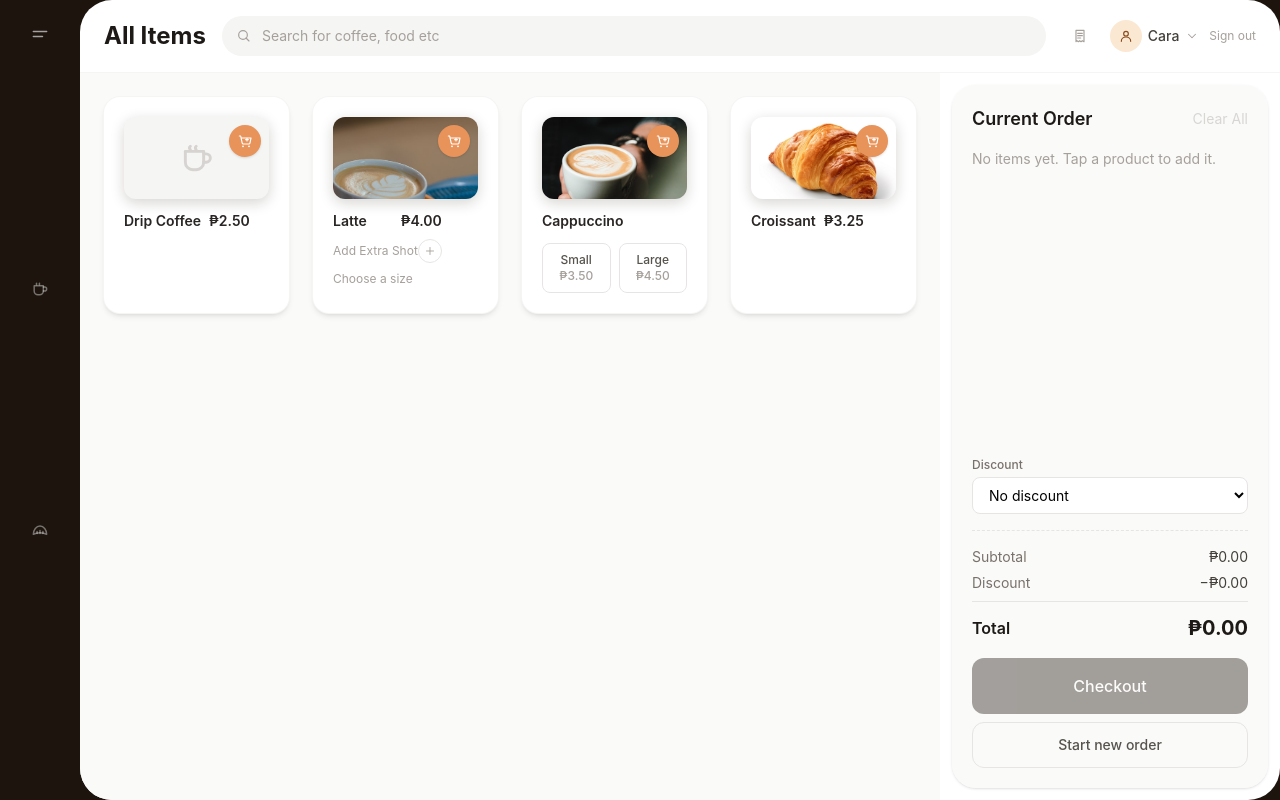
Test case: POS cart — adding items › quick-adds a size-only product by tapping its size chip, with no dialog
The image size is (1280, 800).
Expected: the text "Cappuccino" is shown, [542,212,624,229]
Click the button with aria-label "Cappuccino Large": click(653, 268) [618,243,687,293]
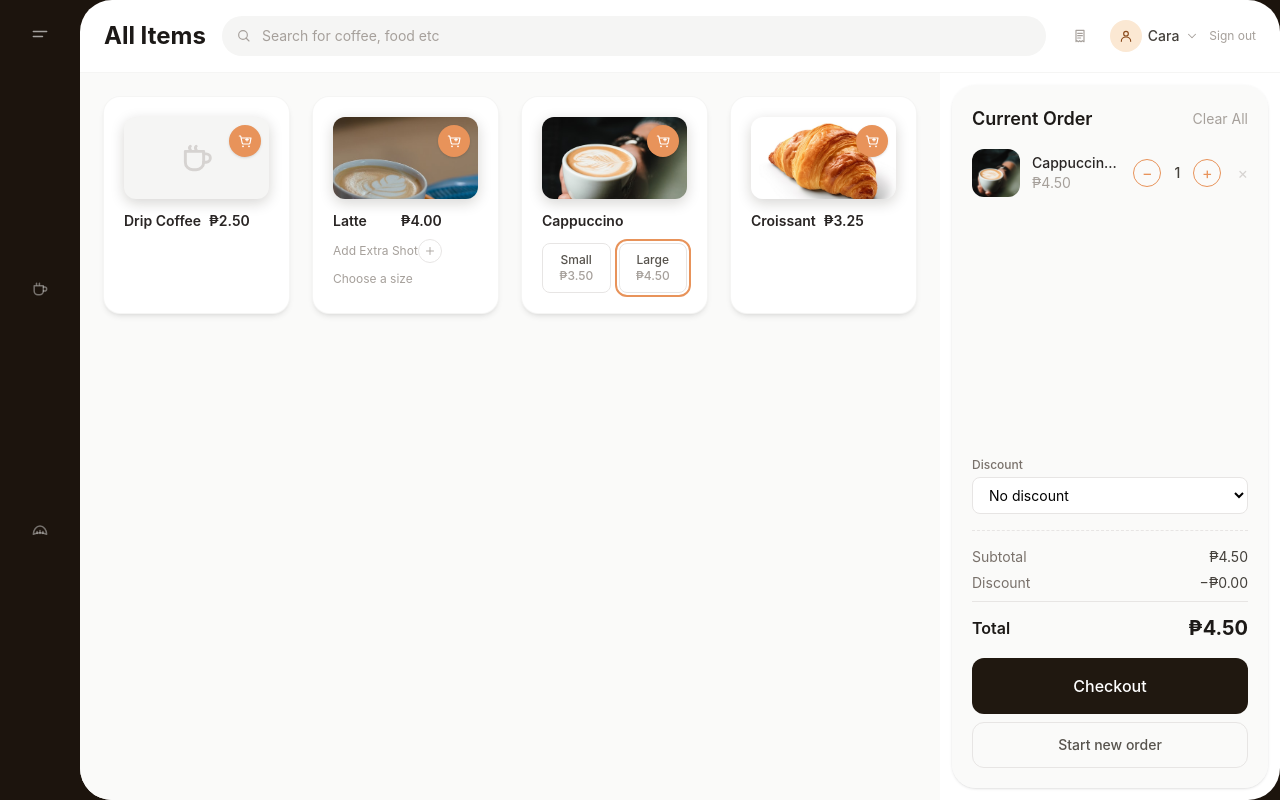
Expected: the text "Cappuccino — Large" is shown, [1032,153,1121,173]
Expected: the text "₱4.50" is shown 3 times, [1032,174,1071,191]; [1209,547,1248,567]; [1188,614,1248,642]
